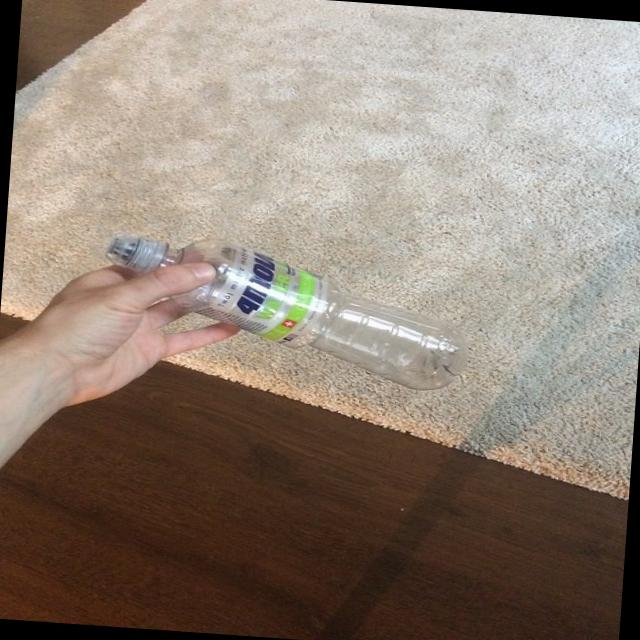Recycle: (94, 219, 490, 395)
